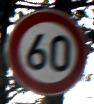Speed Limit -60-: (7, 9, 85, 93)
